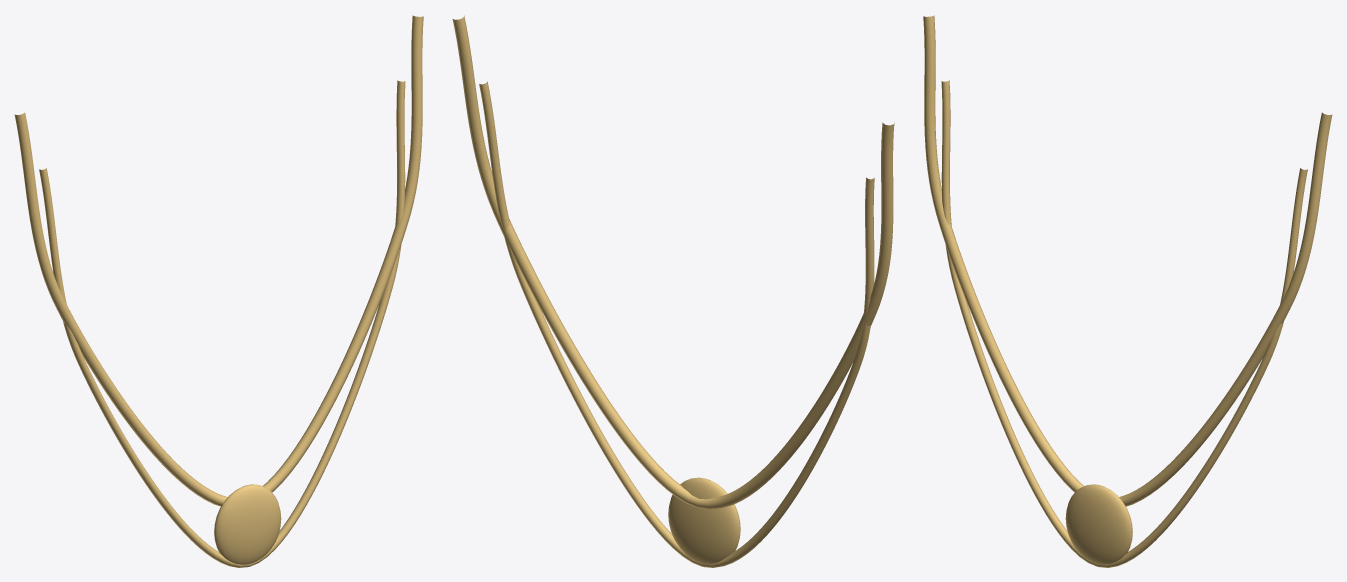
The picture shows the model from 3 angles, left to right: view 1: azimuth 30°, elevation 25°; view 2: azimuth 150°, elevation 25°; view 3: azimuth 330°, elevation 25°; orthographic projection. The views are drawn at different scales.
Size of the model in its own units: 1.48 by 1.67 by 0.2339.
